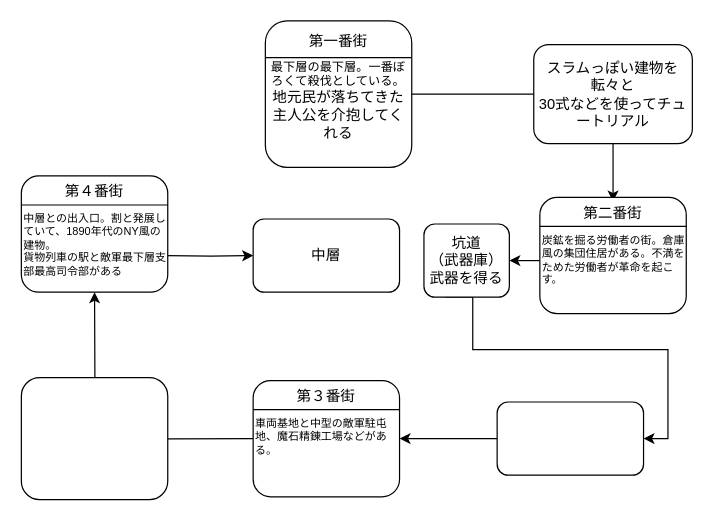
The diagram is 714 pixels wide and 522 high, and some of its shapes have lost their labels. The shapes that lost their labels are listed below. From the top down, each one's centre as x and y in pixels, then its label:
(94,438): 貨物列車とかなり古い蒸気機関車で移動 駅やぼろい住居を転々と 途中で敵が妨害してくる
(570,438): トロッコで移動 駅やスラムっぽい建物が転々と
